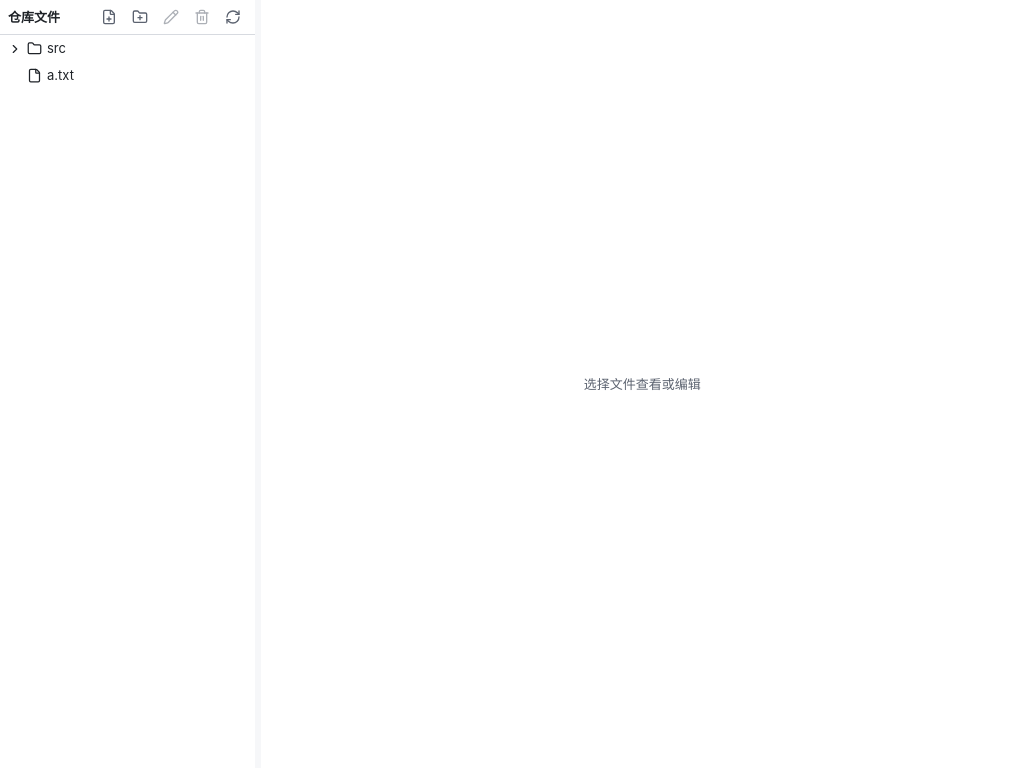
Test: creates files in the selected directory, validates names, and opens the new file
The image size is (1024, 768).
Click the list item "src".
click(127, 48)  # box [0,35,254,62]
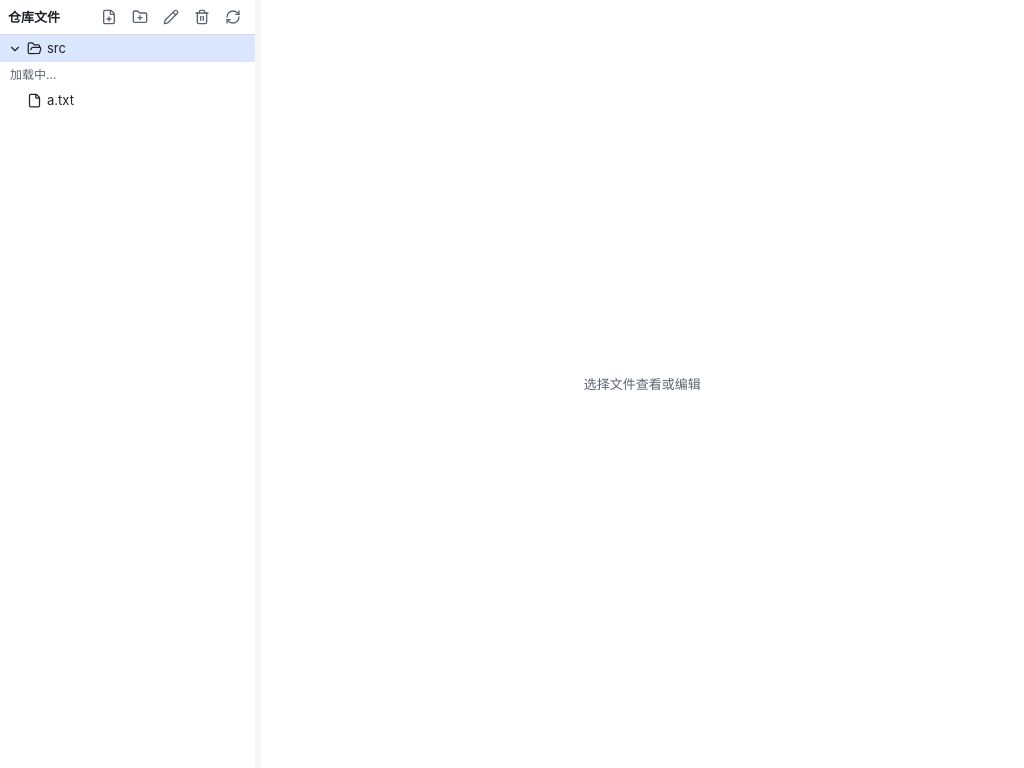
Click the button named "新建文件".
click(108, 17)  # box [94,3,122,31]
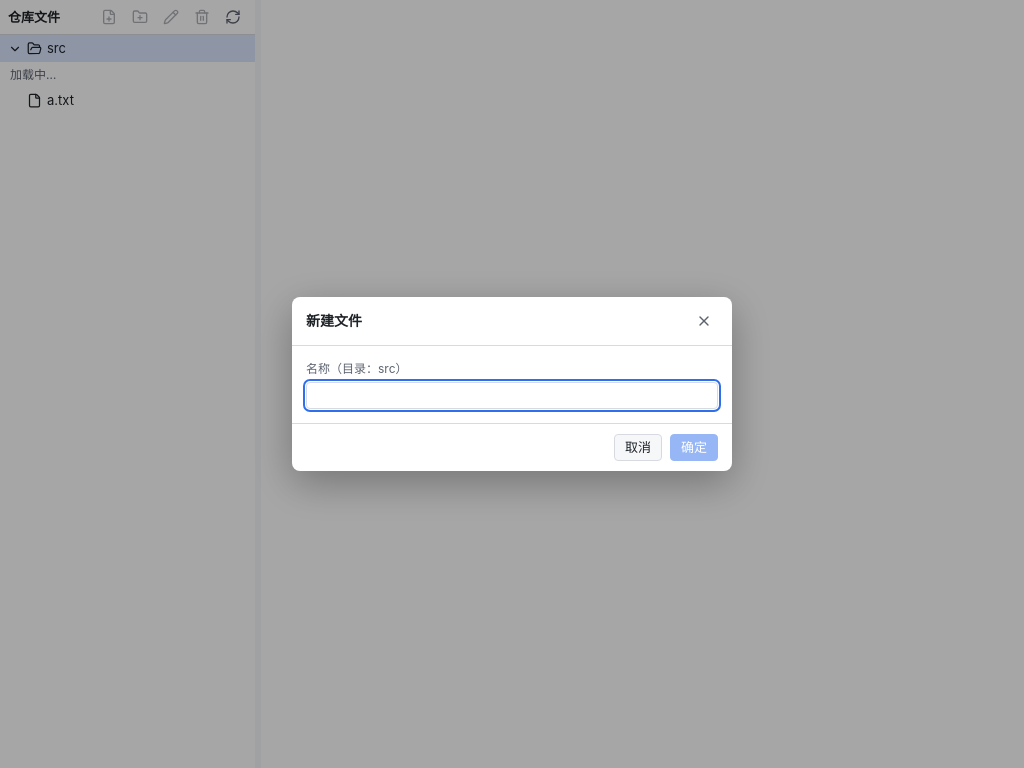
Type "../escape" into the field.
click(512, 395); type("../escape")  # box [306,382,718,409]
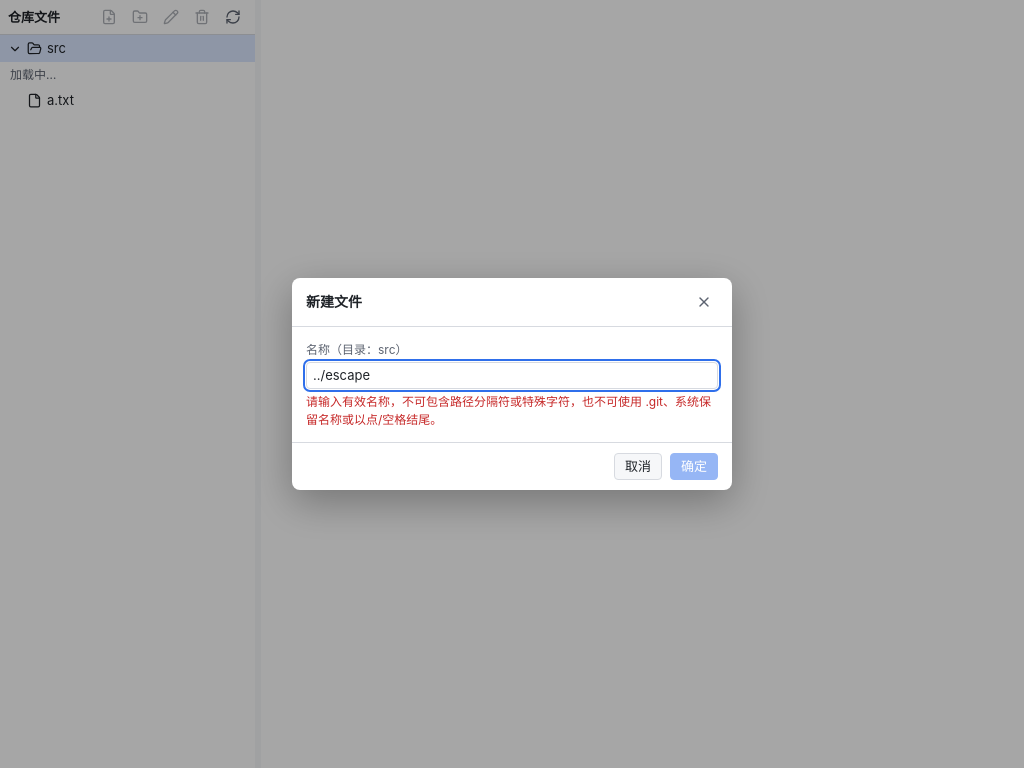
Expected: the button "确定" is disabled, [670,453,718,480]
Replace the text in the field with "new.txt" at {"x": 512, "y": 376}, box [306,362,718,389]
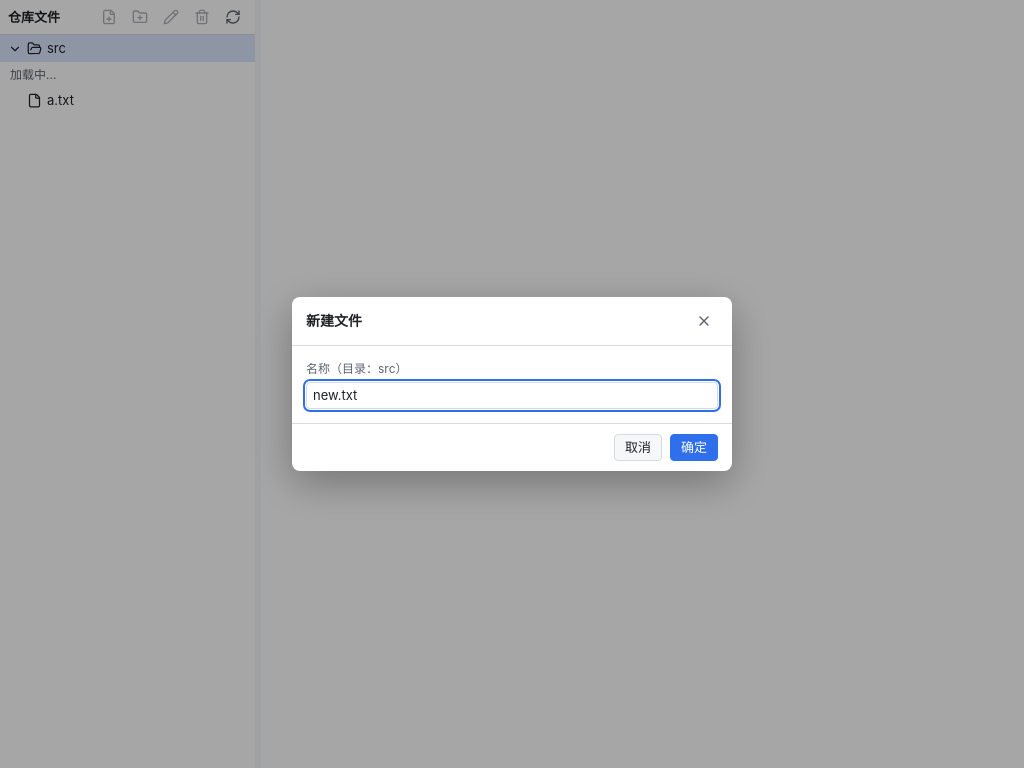
Submit the form, box [306,360,718,409]
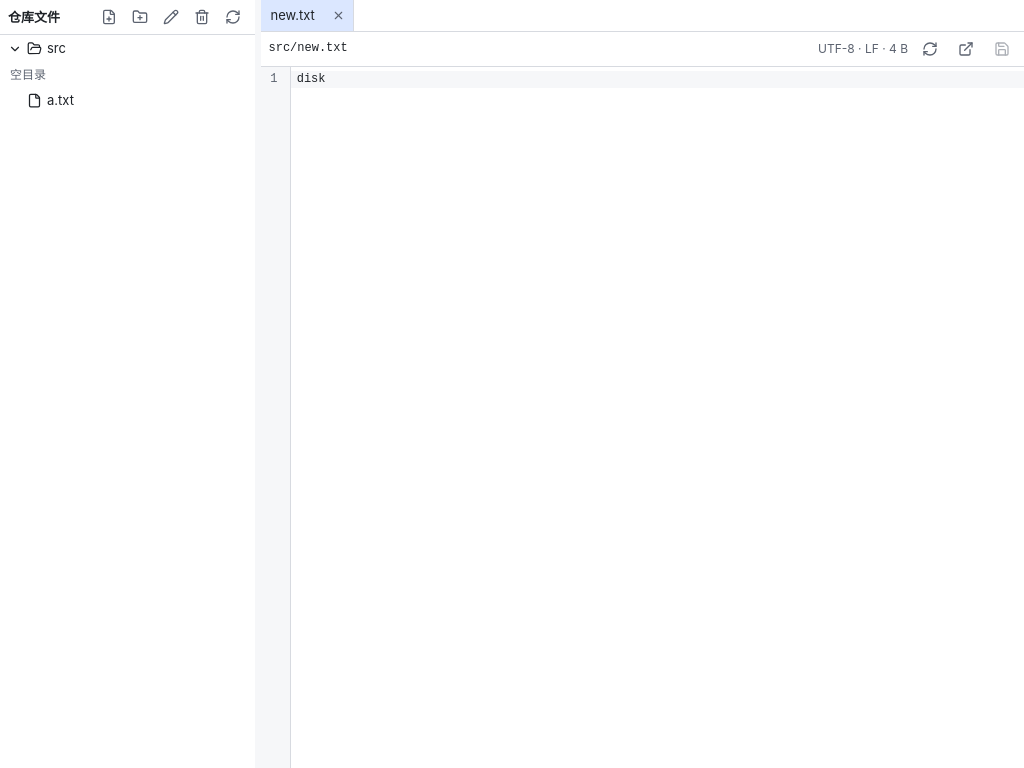
Expected: the text "src/new.txt" is shown, [268,40,348,58]
